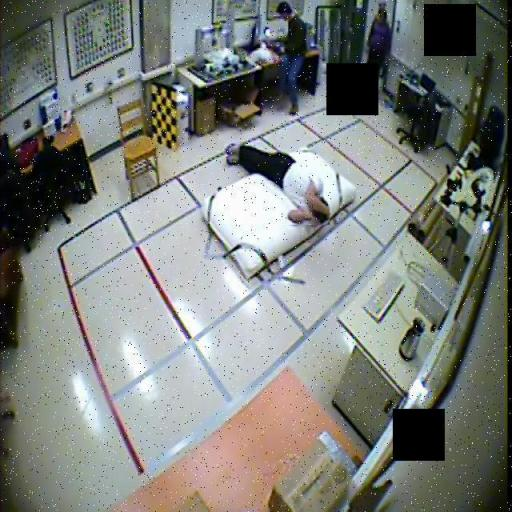Fall: (224, 143, 330, 226)
